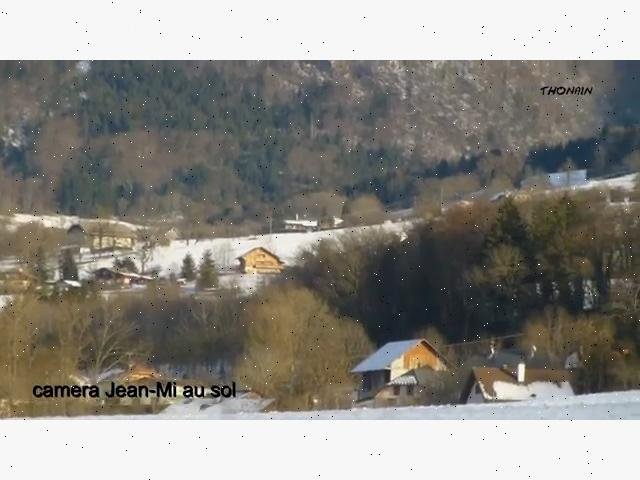Anti-Drone: (393, 225, 423, 251)
